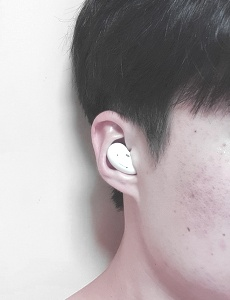earphone: (90, 111, 144, 201)
